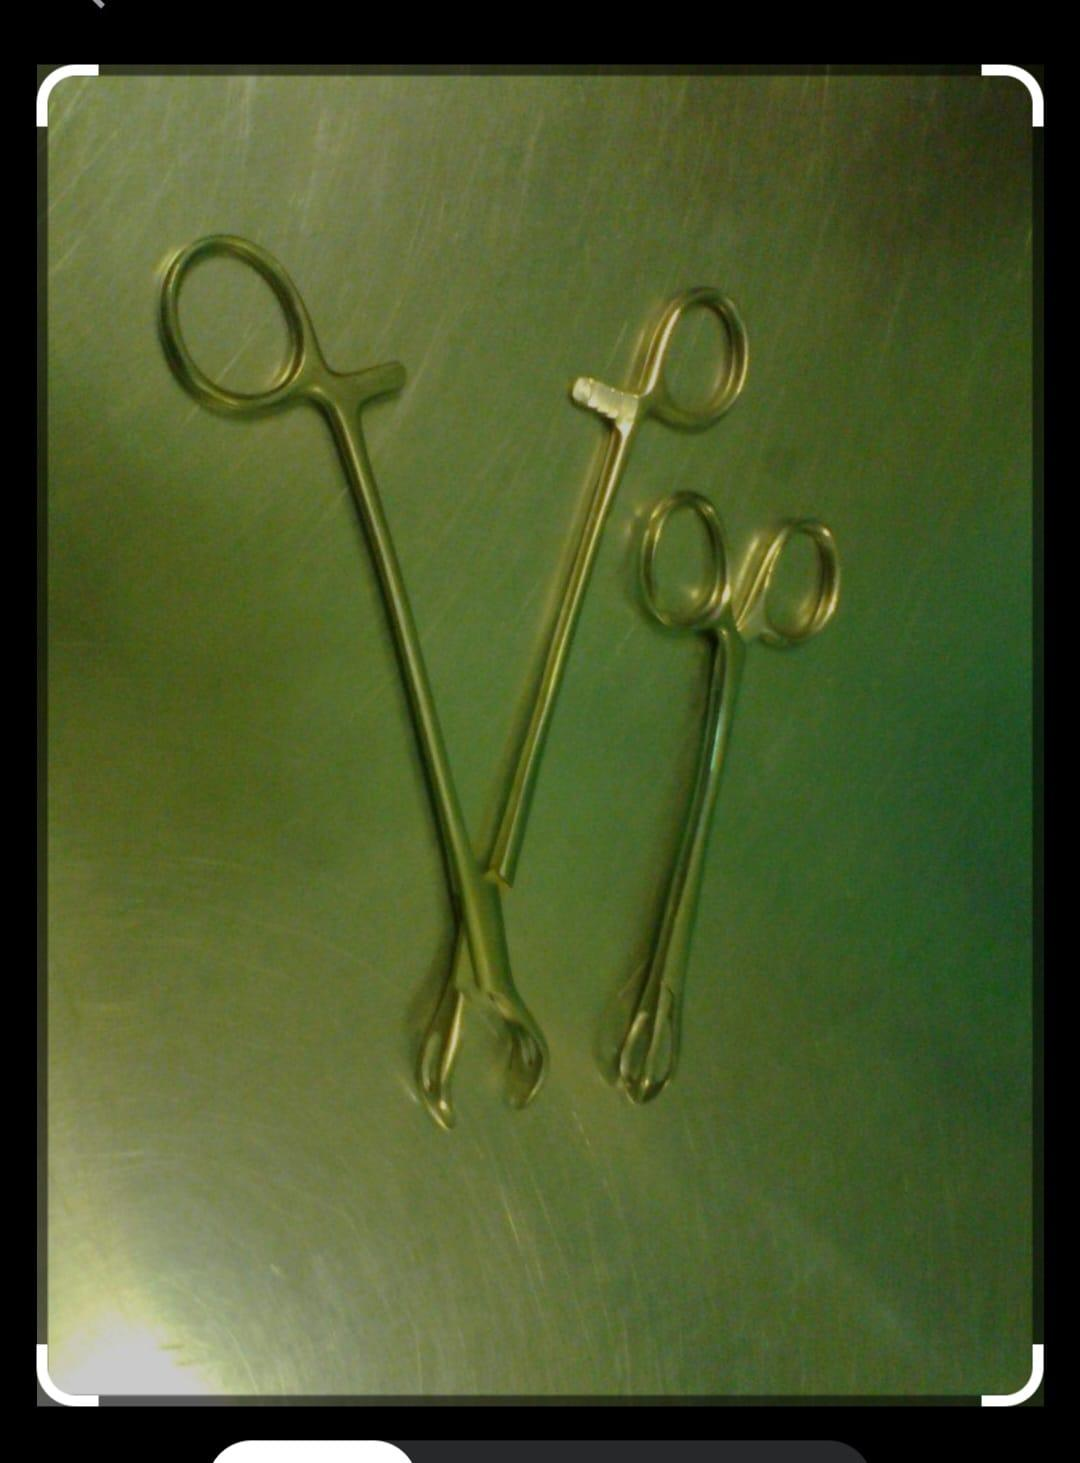Lane Tissue Forceps: (148, 218, 748, 1132), (578, 497, 890, 1112)
